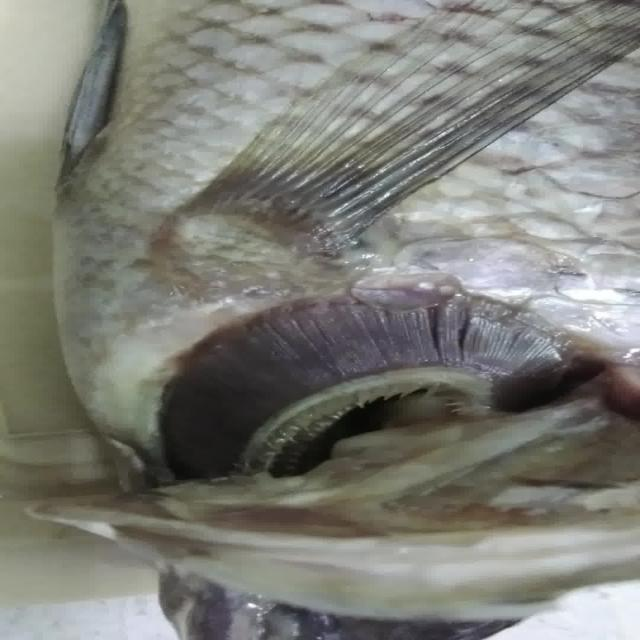Non-Fresh: (142, 277, 589, 492)
